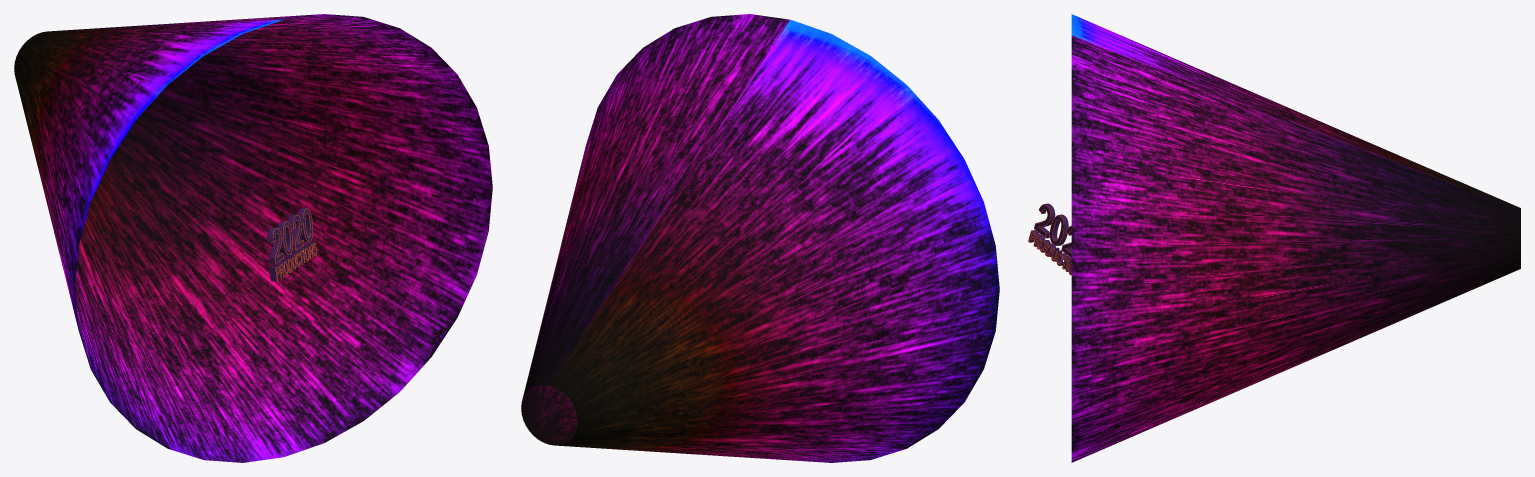
File: Head_scene.glb
3 renders of one model, left to right at view 1: azimuth 30°, elevation 25°; view 2: azimuth 150°, elevation 25°; view 3: azimuth 270°, elevation 25°, orthographic. The views are drawn at different scales.
Visible parts, largest first — view 1: SpeedLines, Logo; view 2: SpeedLines; view 3: SpeedLines, Logo.
Part boxes in pixels (x1,y1,x2,y2): SpeedLines: (14, 14, 492, 462); Logo: (267, 208, 317, 281); SpeedLines: (521, 14, 999, 462); SpeedLines: (1071, 14, 1520, 462); Logo: (1028, 203, 1071, 275).
Bounding box in the file's own units: 2 × 2 × 2.19.
3 materials, 1 textured.
